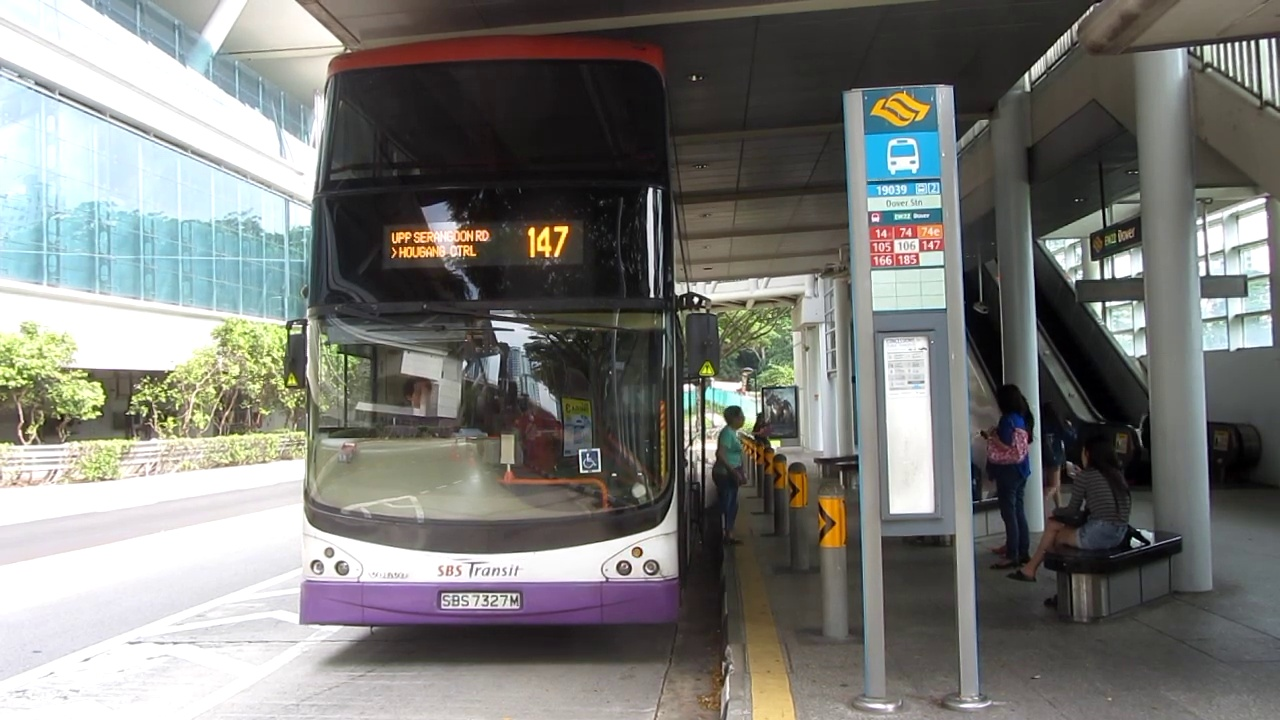bus panel: (378, 217, 586, 271)
